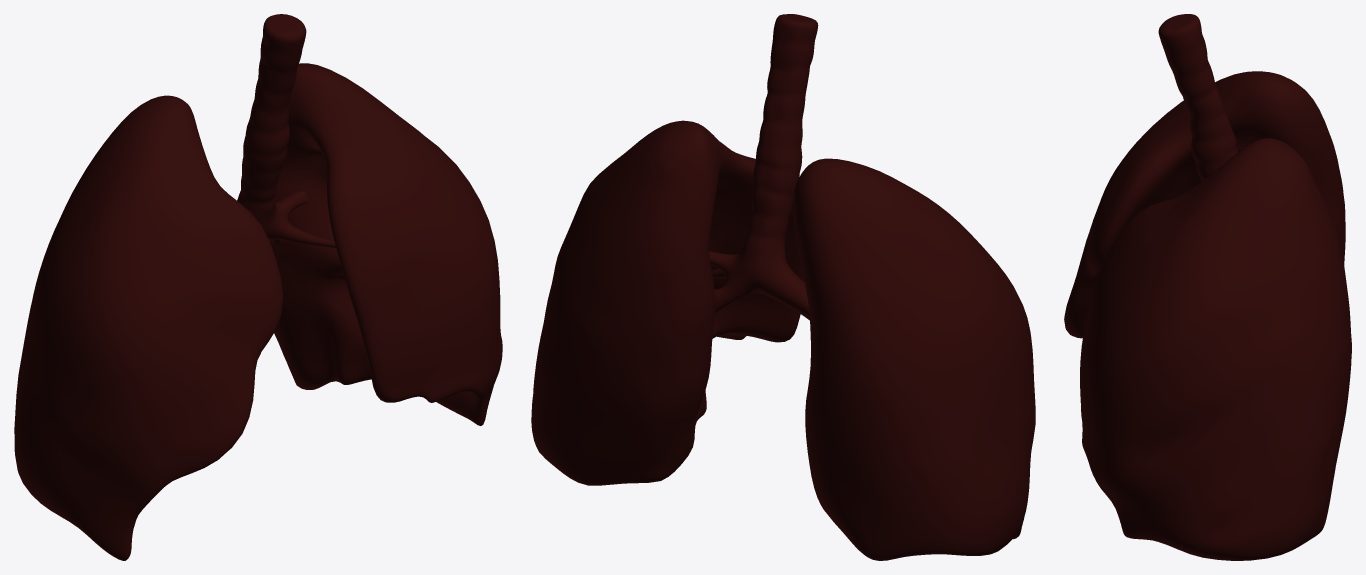
File: severo3_lungs.glb
The picture shows the model from 3 angles, left to right: view 1: azimuth 30°, elevation 25°; view 2: azimuth 150°, elevation 25°; view 3: azimuth 270°, elevation 25°; orthographic projection. The views are drawn at different scales.
Parts seen in each view (by area): view 1: 0; view 2: 0; view 3: 0.
Part boxes in pixels (bbox=[...]): 0: bbox=[14, 14, 502, 560]; 0: bbox=[531, 14, 1035, 560]; 0: bbox=[1064, 14, 1351, 560].
Bounding box in the file's own units: 0.4734 × 0.481 × 0.2591.
